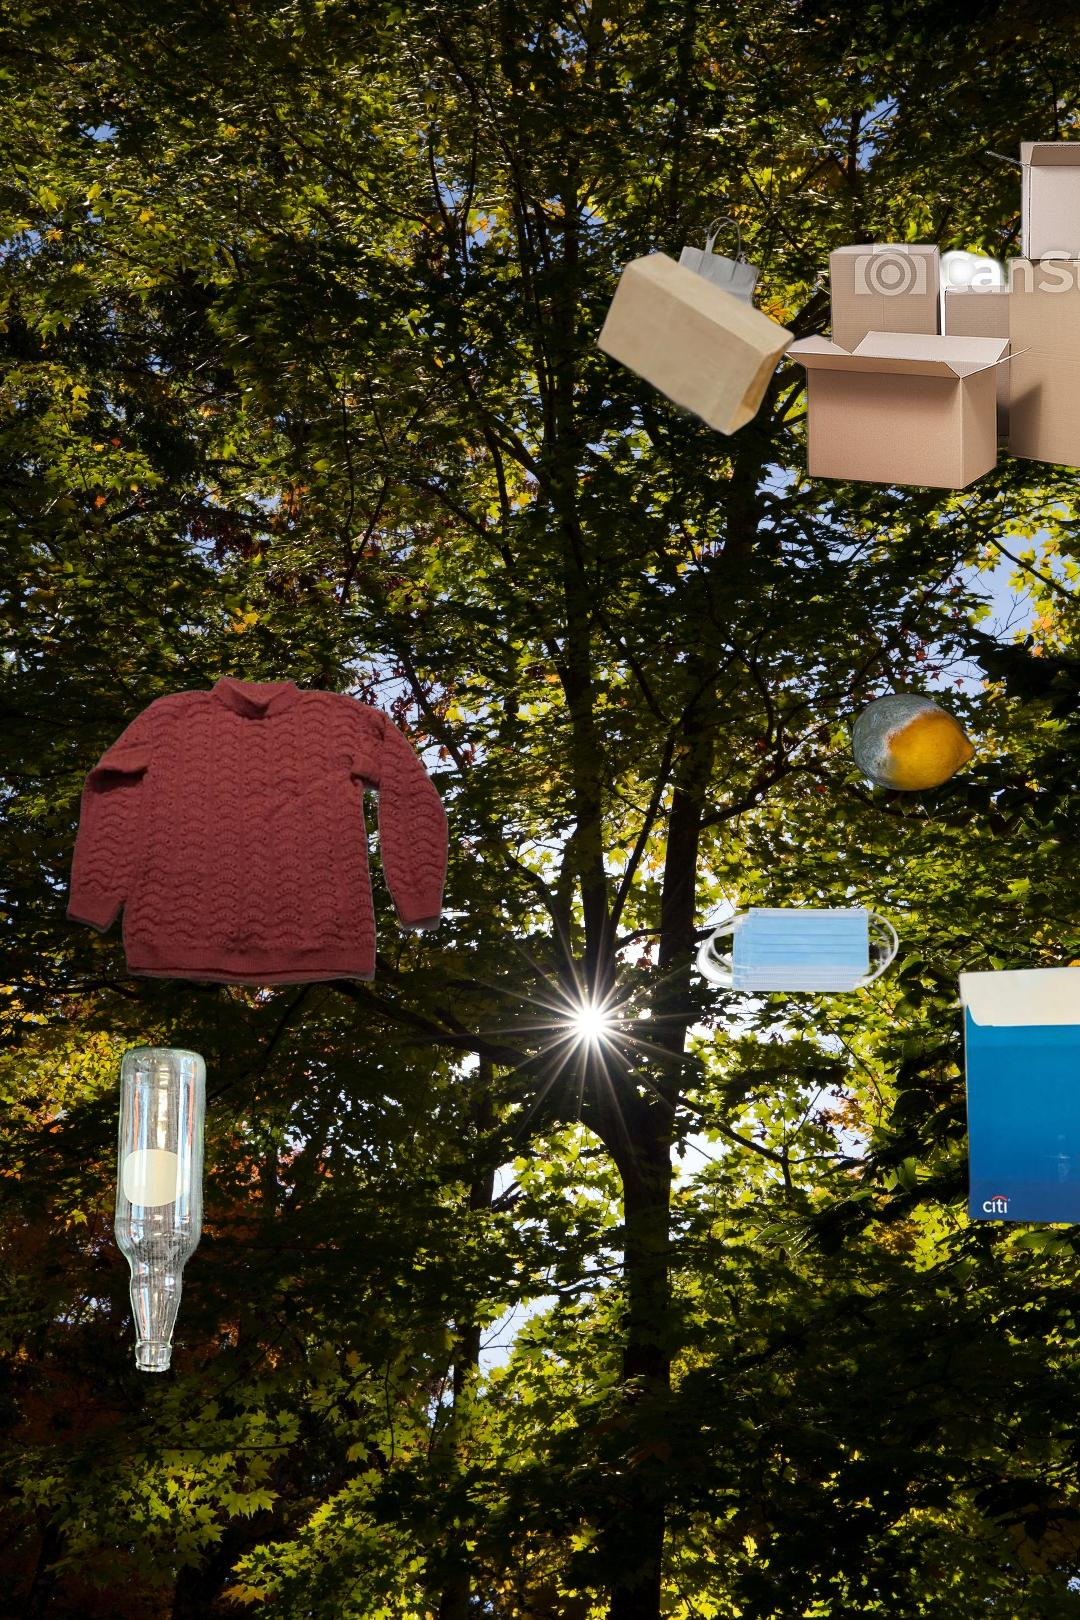biological: (850, 689, 979, 794)
clothes: (63, 673, 453, 991)
glass: (108, 1040, 211, 1379)
metal-cans: (1044, 1078, 1080, 1243)
paper: (953, 953, 1080, 1238)
paper-bag: (580, 213, 798, 440)
trash: (693, 904, 902, 994)
trashbox-cardboard: (765, 136, 1080, 501)
